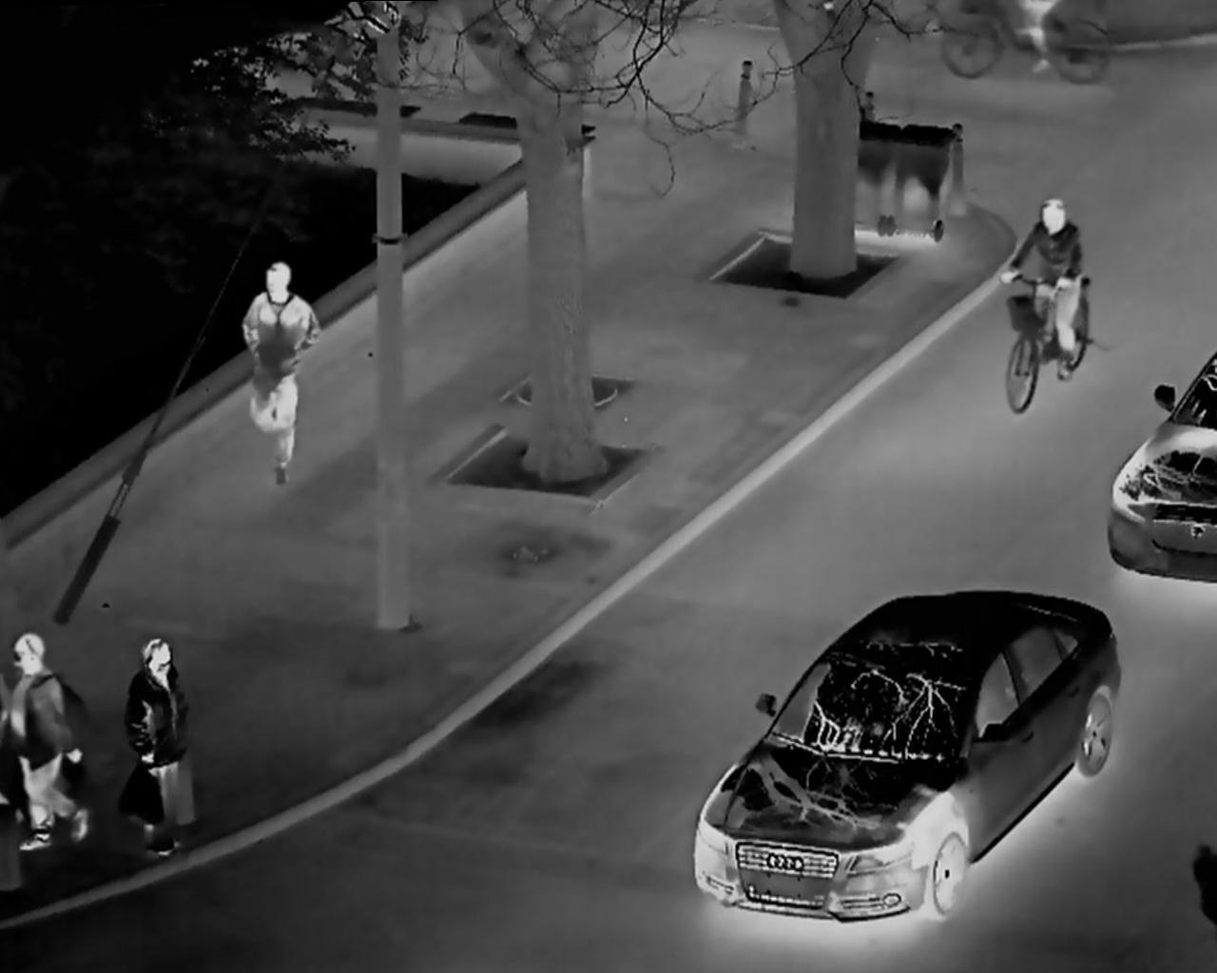person: (113, 625, 223, 860), (5, 625, 98, 873), (1001, 181, 1093, 414), (238, 248, 316, 484)
